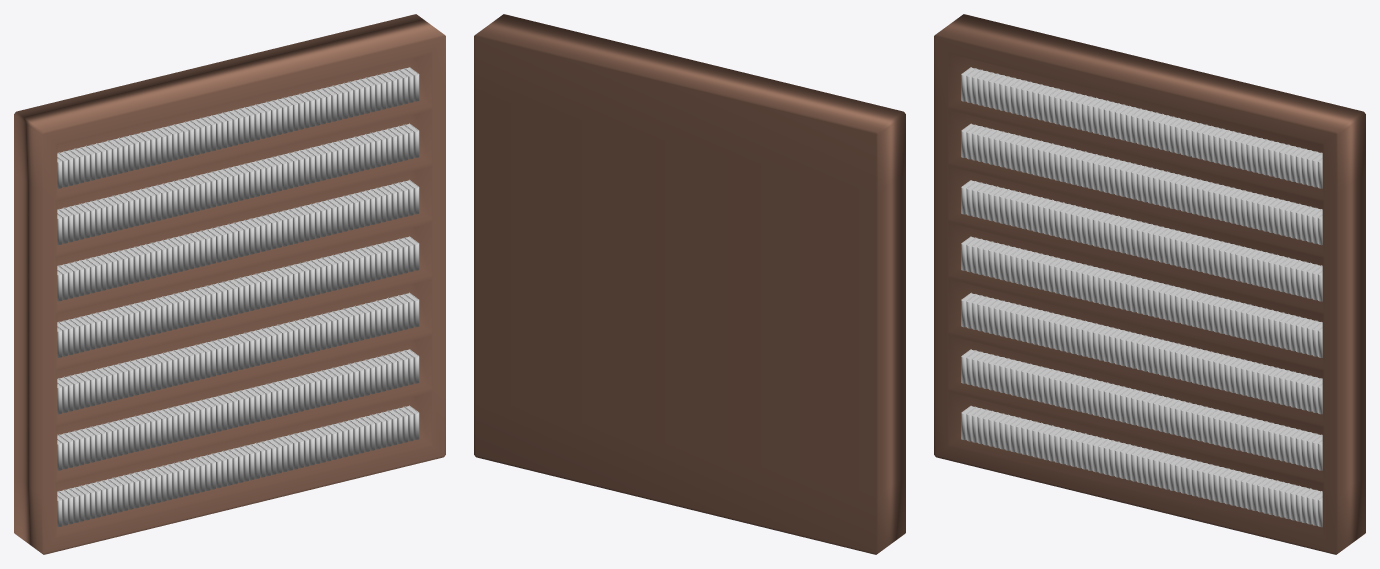
The model's file is BookShelfWithBooks.fbx.
The picture shows the model from 3 angles, left to right: view 1: azimuth 30°, elevation 25°; view 2: azimuth 150°, elevation 25°; view 3: azimuth 330°, elevation 25°; orthographic projection.
Visible parts, largest first — view 1: Bookshelf, Books; view 2: Bookshelf; view 3: Bookshelf, Books.
Boxes of the visible parts, x1,y1,x2,y2 form: Bookshelf: [14, 14, 445, 554]; Books: [57, 67, 419, 526]; Bookshelf: [474, 14, 905, 554]; Bookshelf: [934, 14, 1365, 554]; Books: [961, 67, 1322, 527].
Size of the model in its own units: 810 by 810 by 97.2.
